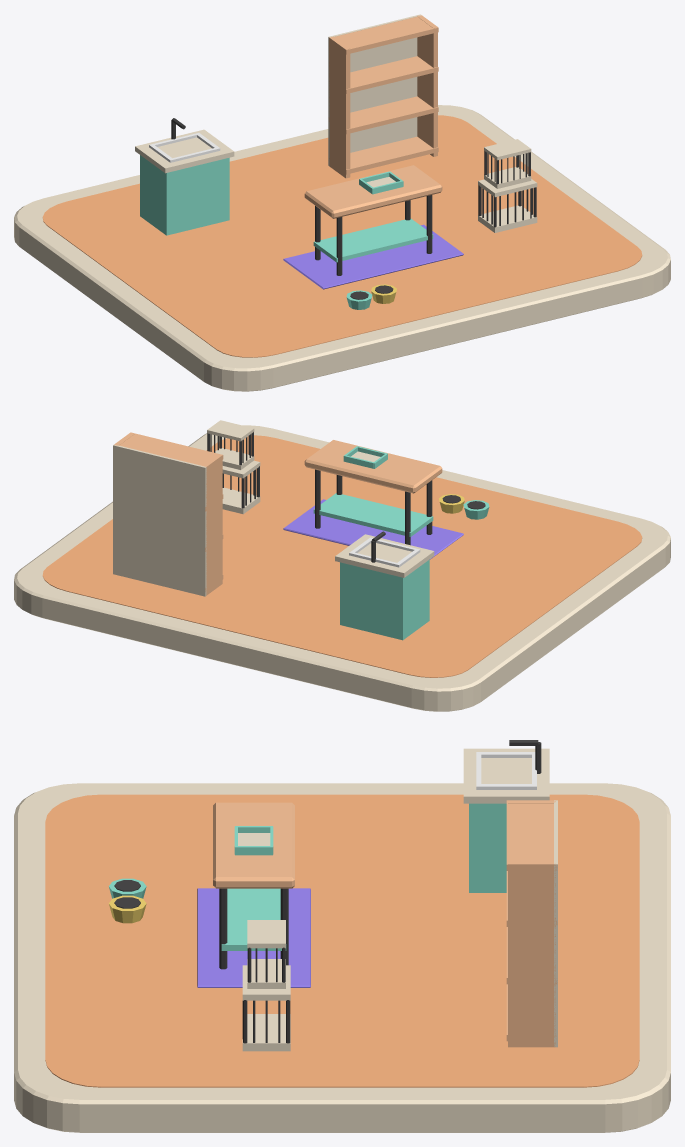
Rendered from room.fbx.
3 views of the same model, one above another, from view 1: azimuth 30°, elevation 25°; view 2: azimuth 150°, elevation 25°; view 3: azimuth 270°, elevation 25° (orthographic). The views are drawn at different scales.
Parts seen in each view (by area): view 1: COM-02 Floor Surface, COM-01 Rounded Base Direct, Cabinet, Back, Rug, Worktop, Side, Lower shelf, Counter, Side.001, Shelf.003, Shelf.001 (+5 smaller); view 2: COM-02 Floor Surface, COM-01 Rounded Base Direct, Back, Cabinet, Worktop, Rug, Lower shelf, Side, Counter, Shelf.003, Floor, Roof.001 (+1 smaller); view 3: COM-02 Floor Surface, COM-01 Rounded Base Direct, Side.001, Worktop, Rug, Counter, Cabinet, Shelf.003, Lower shelf, Floor, Roof.001, Back (+4 smaller).
Part boxes in pixels (x1=…): COM-02 Floor Surface: x1=42, y1=115, x2=642, y2=357; COM-01 Rounded Base Direct: x1=14, y1=105, x2=670, y2=391; Cabinet: x1=140, y1=155, x2=229, y2=235; Back: x1=328, y1=14, x2=421, y2=166; Rug: x1=283, y1=224, x2=463, y2=289; Worktop: x1=304, y1=165, x2=442, y2=218; Side: x1=329, y1=36, x2=350, y2=178; Lower shelf: x1=313, y1=218, x2=433, y2=262; Counter: x1=135, y1=129, x2=234, y2=173; Side.001: x1=417, y1=15, x2=437, y2=156; Shelf.003: x1=331, y1=16, x2=438, y2=54; Shelf.001: x1=328, y1=96, x2=438, y2=134; COM-02 Floor Surface: x1=42, y1=435, x2=642, y2=677; COM-01 Rounded Base Direct: x1=14, y1=425, x2=670, y2=711; Back: x1=113, y1=444, x2=206, y2=596; Cabinet: x1=340, y1=559, x2=429, y2=640; Worktop: x1=304, y1=440, x2=442, y2=493; Rug: x1=283, y1=499, x2=463, y2=559; Lower shelf: x1=313, y1=493, x2=433, y2=536; Side: x1=201, y1=454, x2=222, y2=595; Counter: x1=335, y1=534, x2=434, y2=577; Shelf.003: x1=119, y1=432, x2=223, y2=470; Floor: x1=222, y1=487, x2=260, y2=514; Roof.001: x1=207, y1=420, x2=254, y2=441; COM-02 Floor Surface: x1=45, y1=794, x2=639, y2=1087; COM-01 Rounded Base Direct: x1=14, y1=783, x2=670, y2=1132; Side.001: x1=508, y1=861, x2=555, y2=1047; Worktop: x1=213, y1=802, x2=294, y2=888; Rug: x1=197, y1=888, x2=310, y2=987; Counter: x1=463, y1=748, x2=549, y2=803; Cabinet: x1=469, y1=803, x2=506, y2=892; Shelf.003: x1=506, y1=800, x2=557, y2=870; Lower shelf: x1=221, y1=888, x2=286, y2=950; Floor: x1=242, y1=1014, x2=290, y2=1051; Roof.001: x1=247, y1=920, x2=285, y2=948; Back: x1=554, y1=800, x2=557, y2=1047.
Size of the model in its own units: 600 by 190 by 520.
